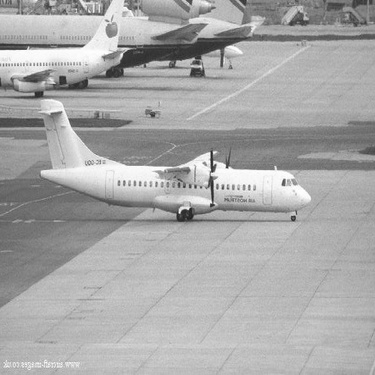airplane: (29, 90, 316, 226), (2, 2, 264, 69), (4, 4, 128, 96), (175, 42, 245, 73)
